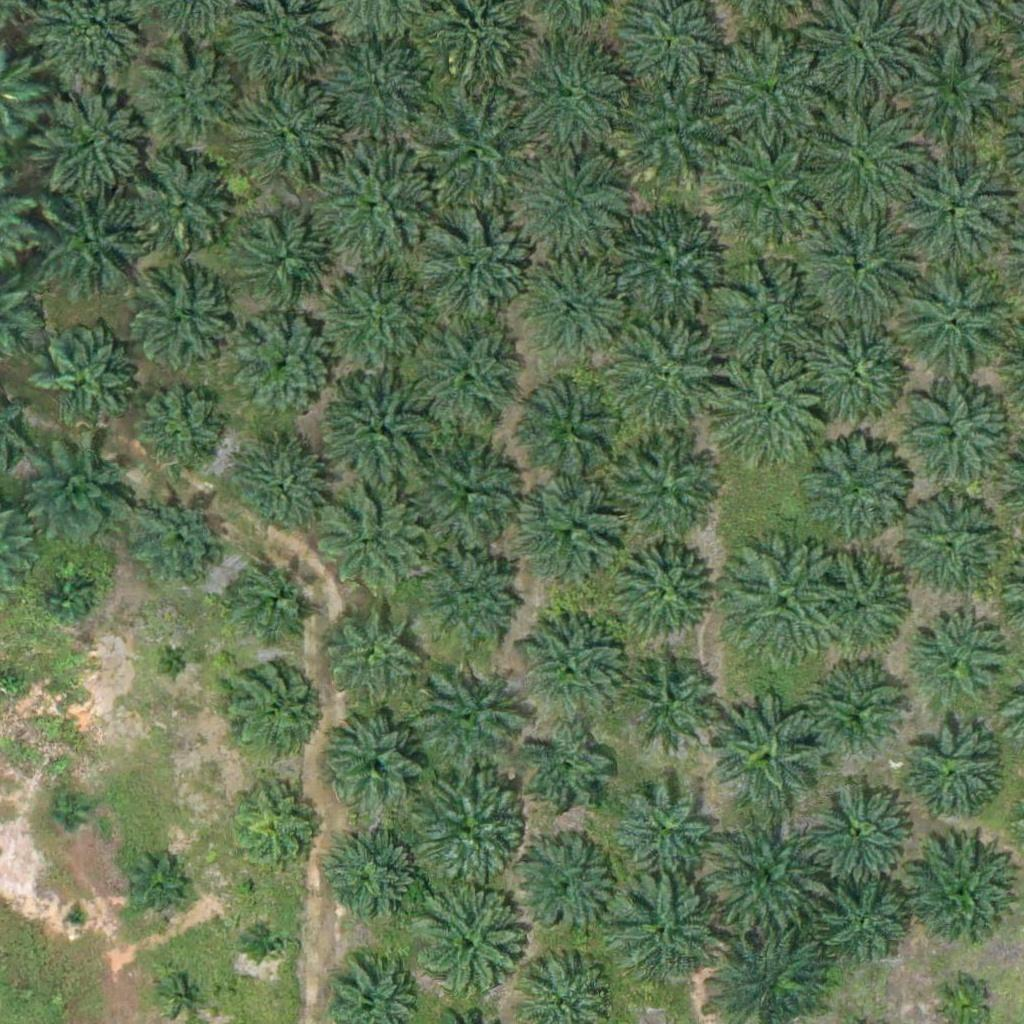Kelapa_Sawit: (315, 366, 440, 492), (312, 259, 437, 385), (312, 137, 437, 263), (412, 81, 537, 207), (413, 210, 538, 336), (406, 430, 531, 556), (508, 148, 633, 274), (509, 38, 634, 164), (606, 201, 731, 327), (602, 312, 727, 438), (710, 357, 835, 483), (703, 259, 828, 385), (795, 96, 920, 222), (797, 200, 922, 326), (793, 307, 918, 433), (789, 428, 914, 554), (891, 378, 1016, 504), (891, 261, 1016, 387), (718, 539, 843, 665), (703, 809, 828, 935), (26, 79, 151, 204), (897, 144, 1022, 269), (897, 32, 1022, 157), (404, 767, 529, 892), (404, 886, 529, 1011), (315, 41, 428, 155), (902, 840, 1015, 954), (35, 190, 148, 303), (26, 439, 139, 552), (411, 323, 524, 436), (710, 30, 823, 143), (619, 83, 732, 196), (611, 878, 724, 991), (516, 613, 629, 726), (413, 544, 526, 657), (410, 662, 523, 775), (803, 770, 915, 884), (713, 690, 825, 804), (518, 373, 630, 486), (607, 439, 719, 552), (315, 489, 427, 602), (34, 330, 134, 431), (131, 278, 231, 379), (129, 157, 229, 258), (134, 45, 234, 146), (242, 87, 342, 188), (235, 316, 335, 417), (231, 441, 331, 542), (718, 136, 818, 237), (895, 497, 995, 598), (907, 613, 1007, 714), (809, 546, 909, 647), (615, 779, 715, 880), (519, 725, 619, 826), (514, 834, 614, 935), (317, 595, 417, 696), (328, 712, 428, 813), (325, 831, 425, 932), (220, 550, 320, 651), (222, 656, 322, 757), (227, 777, 327, 878), (530, 268, 630, 368), (899, 722, 999, 822), (812, 661, 912, 761), (612, 541, 712, 641), (621, 649, 721, 749), (524, 485, 624, 585), (238, 221, 326, 309), (821, 881, 909, 969), (135, 495, 222, 584), (134, 388, 221, 476), (122, 858, 185, 921), (41, 572, 91, 623), (155, 646, 193, 684), (252, 924, 290, 962), (164, 974, 201, 1012), (45, 794, 82, 832), (64, 904, 89, 929)
